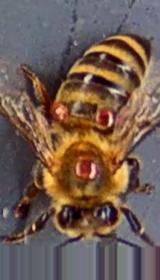varroa_mite: (66, 148, 108, 186), (89, 100, 120, 136), (46, 96, 68, 128)
